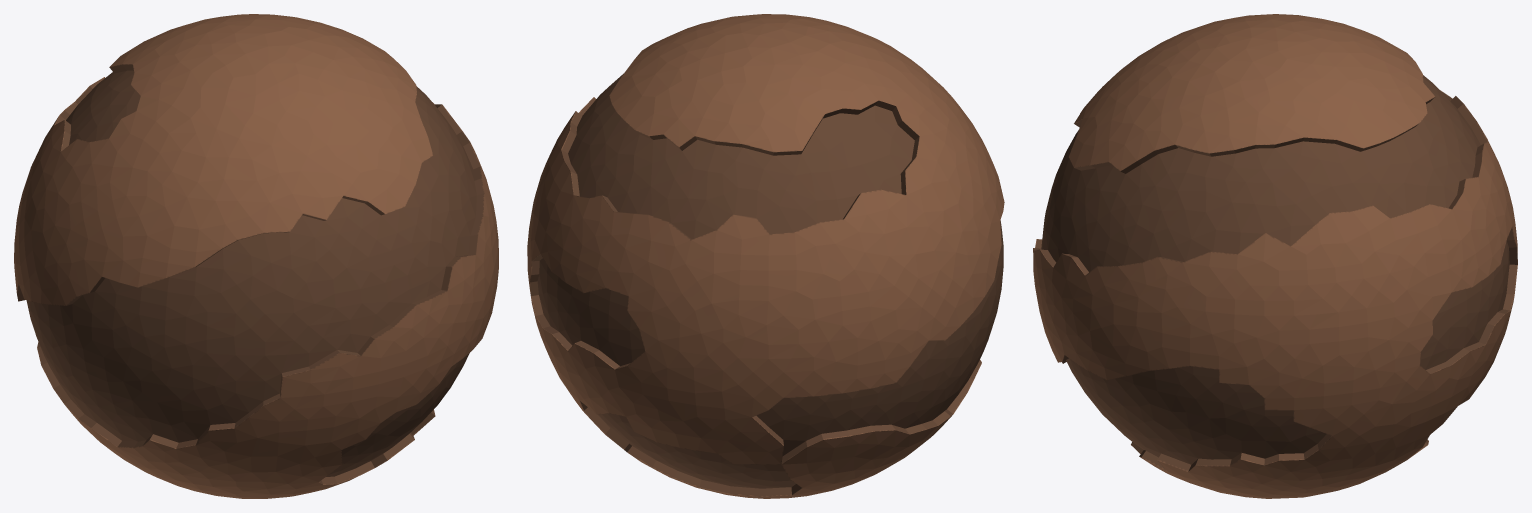
Rendered from pluto.gltf.
3 views of the same model, side by side, from view 1: azimuth 30°, elevation 25°; view 2: azimuth 150°, elevation 25°; view 3: azimuth 270°, elevation 25° (orthographic).
Parts seen in each view (by area): view 1: Pluto; view 2: Pluto; view 3: Pluto.
Boxes of the visible parts, x1,y1,x2,y2 form: Pluto: [14, 14, 498, 498]; Pluto: [527, 14, 1004, 498]; Pluto: [1033, 14, 1517, 498].
Bounding box in the file's own units: 2.02 × 2.02 × 2.02.
2 materials, 2 textured.
